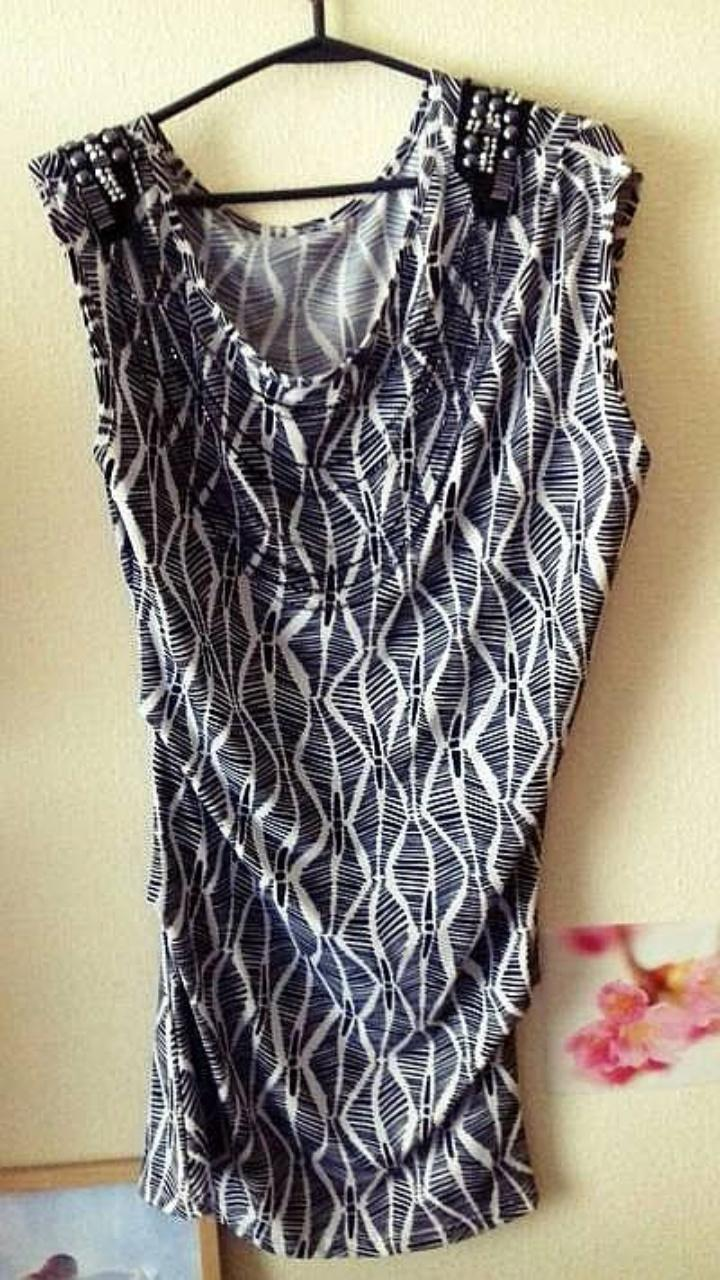Dresses: (29, 70, 649, 1257)
